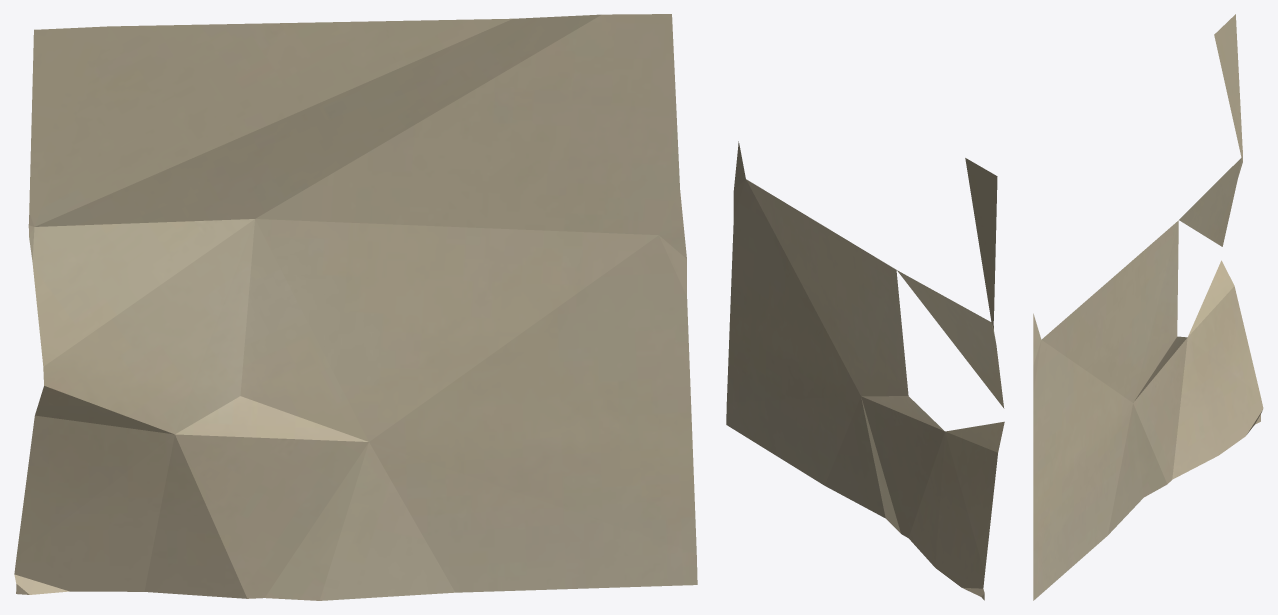
3 renders of one model, left to right at view 1: azimuth 30°, elevation 25°; view 2: azimuth 150°, elevation 25°; view 3: azimuth 270°, elevation 25°, orthographic. The views are drawn at different scales.
Size of the model in its own units: 0.7899 by 0.8374 by 0.4283.
3 materials, 3 textured.
